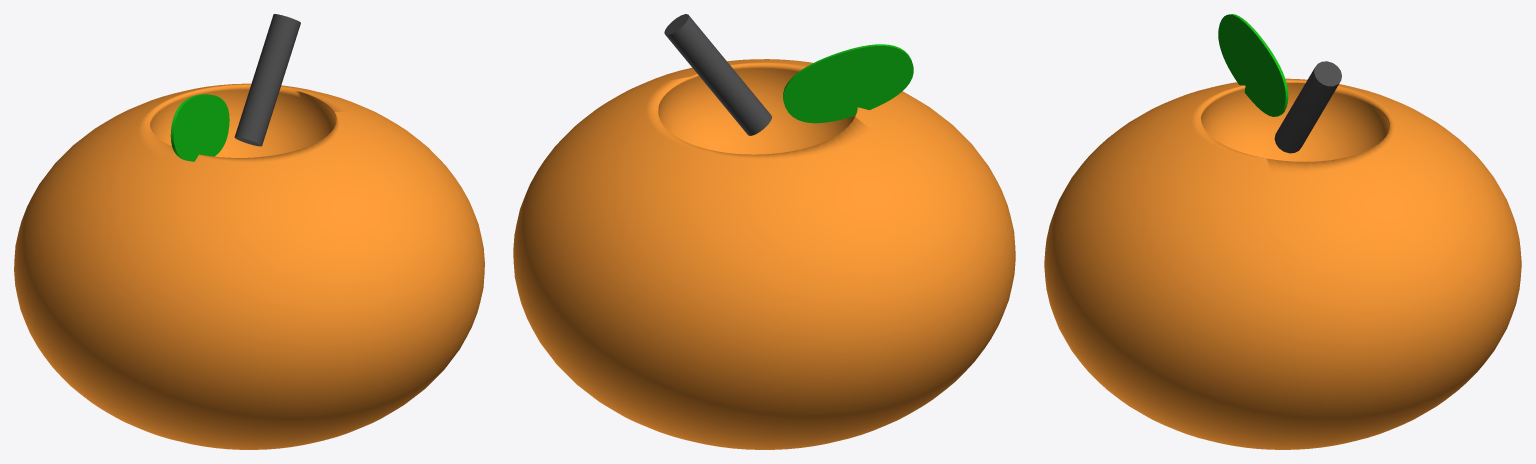
Rendered from orange.glb.
3 renders of one model, left to right at view 1: azimuth 30°, elevation 25°; view 2: azimuth 150°, elevation 25°; view 3: azimuth 270°, elevation 25°, orthographic. The views are drawn at different scales.
Parts seen in each view (by area): view 1: OrangeBody, Stem, Leaf; view 2: OrangeBody, Leaf, Stem; view 3: OrangeBody, Leaf, Stem.
Part boxes in pixels (x1=…): OrangeBody: x1=14, y1=83, x2=484, y2=449; Stem: x1=234, y1=14, x2=300, y2=146; Leaf: x1=170, y1=94, x2=229, y2=161; OrangeBody: x1=513, y1=59, x2=1015, y2=449; Leaf: x1=783, y1=44, x2=913, y2=123; Stem: x1=664, y1=14, x2=771, y2=135; OrangeBody: x1=1044, y1=78, x2=1521, y2=449; Leaf: x1=1218, y1=14, x2=1288, y2=116; Stem: x1=1274, y1=61, x2=1341, y2=153.
Size of the model in its own units: 2 by 1.77 by 2.
